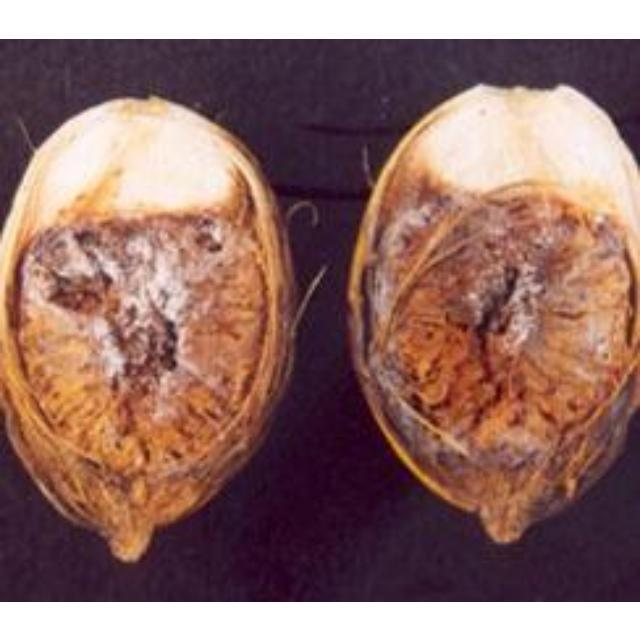damaged: (0, 96, 291, 560), (349, 85, 637, 539)
